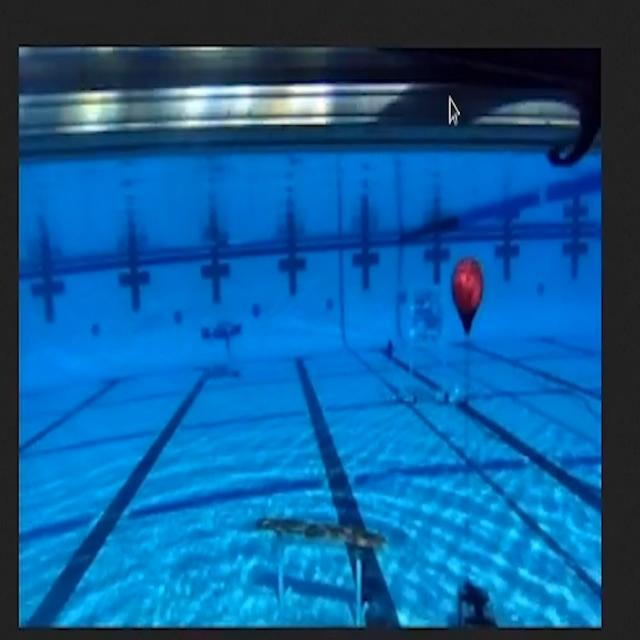Buoy: (449, 246, 489, 346)
